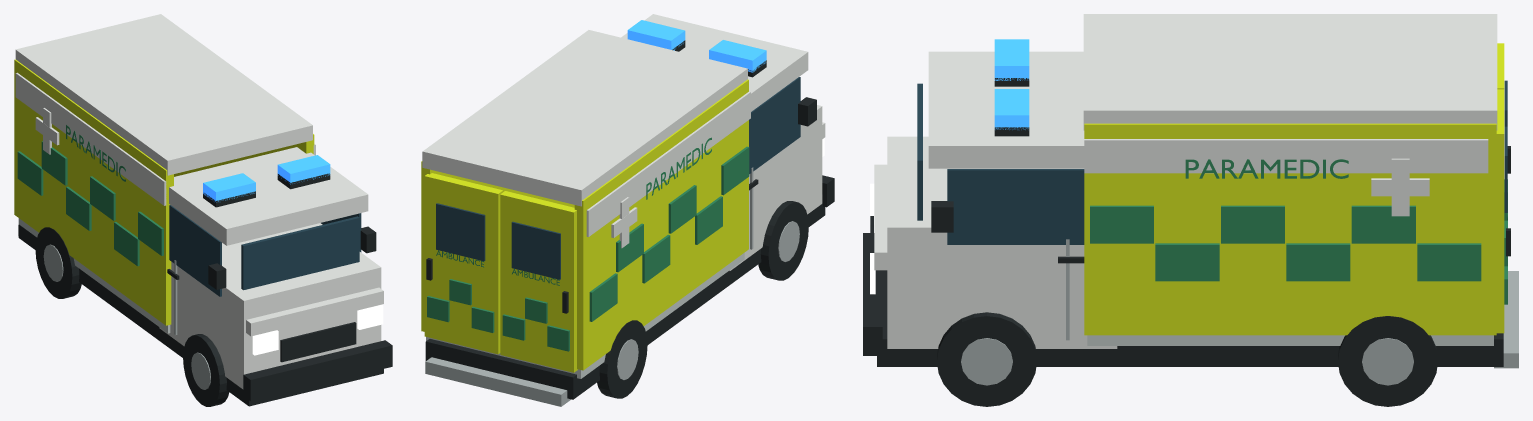
Rendered from ambulance.glb.
3 views of the same model, side by side, from view 1: azimuth 30°, elevation 25°; view 2: azimuth 150°, elevation 25°; view 3: azimuth 270°, elevation 25° (orthographic). The views are drawn at different scales.
Parts seen in each view (by area): view 1: Patient roof, Patient wall, Cab lower, Cab roof, Windscreen, Front bumper, Upper white panel, Chassis, Cab side glass, Bonnet, Wheel, Grille (+21 smaller); view 2: Patient roof, Patient wall, RearDoorLeft panel, RearDoorRight panel, Chassis, Cab lower, Upper white panel, Cab roof, Cab side glass, Rear step, RearDoorLeft glass, RearDoorRight glass (+23 smaller); view 3: Patient wall.001, Patient roof, Cab lower, Cab roof, Upper white panel.001, Cab side glass.001, Chassis, Wheel.002, Wheel.003, Patient floor, Battenburg green.007, Battenburg green.009 (+17 smaller).
Part boxes in pixels (bbox=[...]): Patient roof: bbox=[15, 14, 312, 175]; Patient wall: bbox=[14, 59, 173, 325]; Cab lower: bbox=[159, 223, 381, 389]; Cab roof: bbox=[169, 147, 368, 245]; Windscreen: bbox=[241, 216, 359, 290]; Front bumper: bbox=[243, 340, 392, 401]; Upper white panel: bbox=[15, 72, 166, 205]; Chassis: bbox=[18, 224, 383, 406]; Cab side glass: bbox=[169, 205, 221, 296]; Bonnet: bbox=[246, 287, 383, 336]; Wheel: bbox=[183, 334, 229, 406]; Grille: bbox=[280, 322, 356, 362]; Patient roof: bbox=[422, 30, 747, 206]; Patient wall: bbox=[574, 79, 748, 370]; RearDoorLeft panel: bbox=[500, 191, 577, 372]; RearDoorRight panel: bbox=[424, 173, 503, 354]; Chassis: bbox=[425, 194, 825, 399]; Cab lower: bbox=[729, 105, 822, 270]; Upper white panel: bbox=[586, 91, 750, 236]; Cab roof: bbox=[621, 14, 808, 111]; Cab side glass: bbox=[749, 77, 800, 173]; Rear step: bbox=[425, 357, 570, 406]; RearDoorLeft glass: bbox=[511, 221, 560, 279]; RearDoorRight glass: bbox=[436, 203, 485, 261]; Patient wall.001: bbox=[1084, 123, 1496, 335]; Patient roof: bbox=[1083, 14, 1497, 130]; Cab lower: bbox=[887, 136, 1117, 348]; Cab roof: bbox=[928, 51, 1084, 168]; Upper white panel.001: bbox=[1084, 139, 1488, 173]; Cab side glass.001: bbox=[947, 169, 1084, 244]; Chassis: bbox=[877, 270, 1503, 366]; Wheel.002: bbox=[937, 312, 1036, 406]; Wheel.003: bbox=[1338, 316, 1437, 406]; Patient floor: bbox=[1087, 335, 1493, 345]; Battenburg green.007: bbox=[1155, 243, 1219, 281]; Battenburg green.009: bbox=[1286, 243, 1350, 281].
Size of the model in its own units: 1.8 by 2.34 by 4.71.
